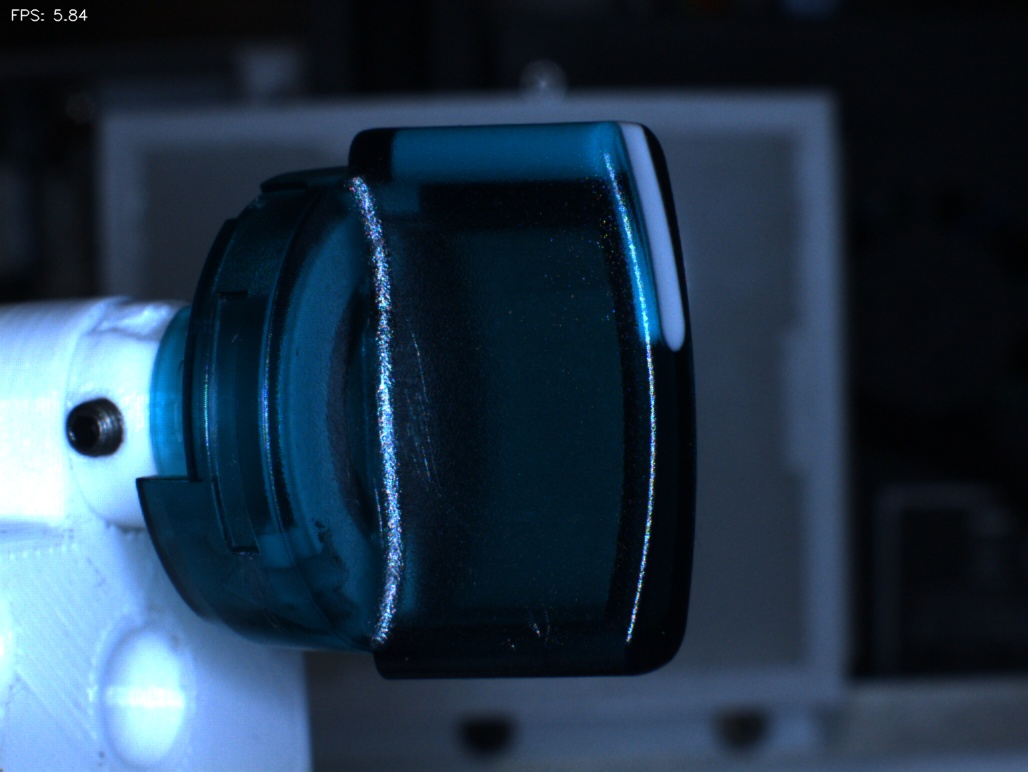Givrage: (389, 313, 469, 491), (504, 592, 579, 671)
